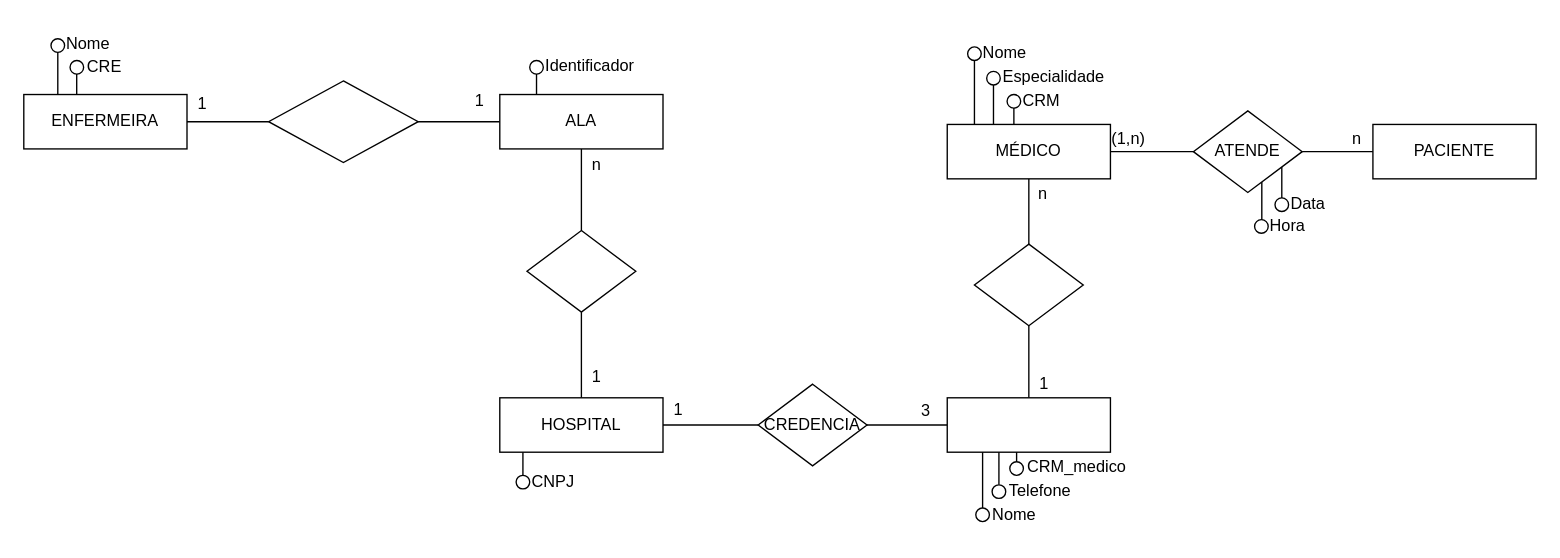
Some shapes in this 1560 by 558 pixel diagram are drawn without their labels. Each missing label, with the centre of its shape:
PLANO DE SAÚDE: pixel 1028 424
POSSUI: pixel 581 270
RESPONSAVEL: pixel 342 121
SERVE: pixel 1028 284
